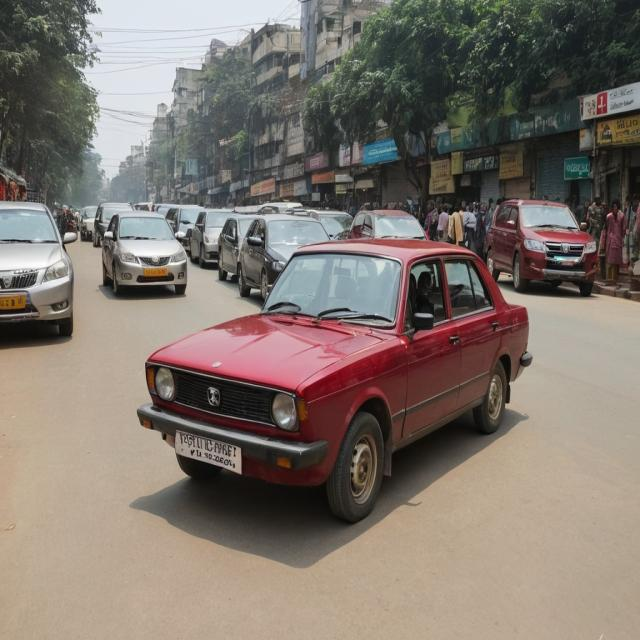black: (235, 217, 338, 310), (90, 200, 136, 245)
maroon: (128, 233, 534, 519), (486, 198, 606, 300)
silver: (0, 185, 83, 348), (102, 214, 192, 300), (188, 208, 248, 268)
